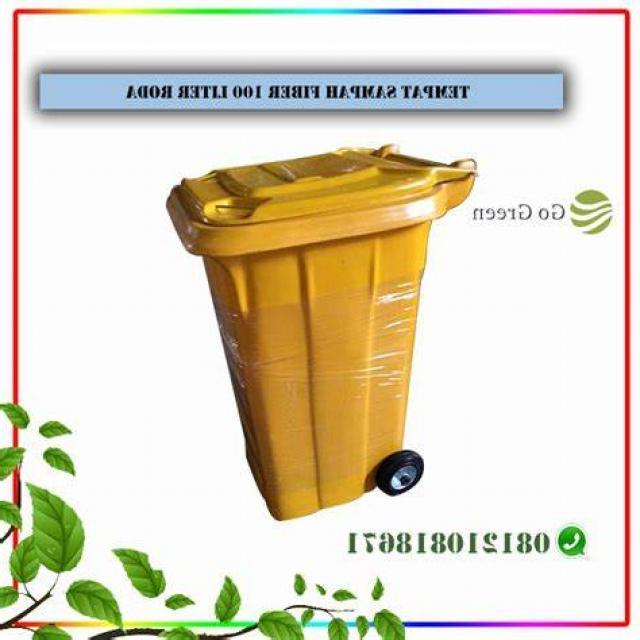garbage container: (167, 128, 476, 520)
